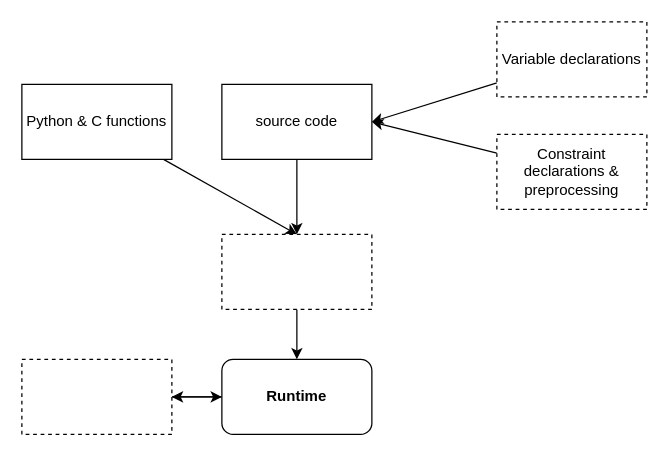
The diagram is 669 pixels wide and 456 high, and some of its shapes have lost their labels. The box of each missing label's shape, as (x1, y1, x2, y2) in pixels:
Bytecode/intermediary code?: (221, 233, 372, 309)
Cache for reruns: (21, 358, 172, 434)
